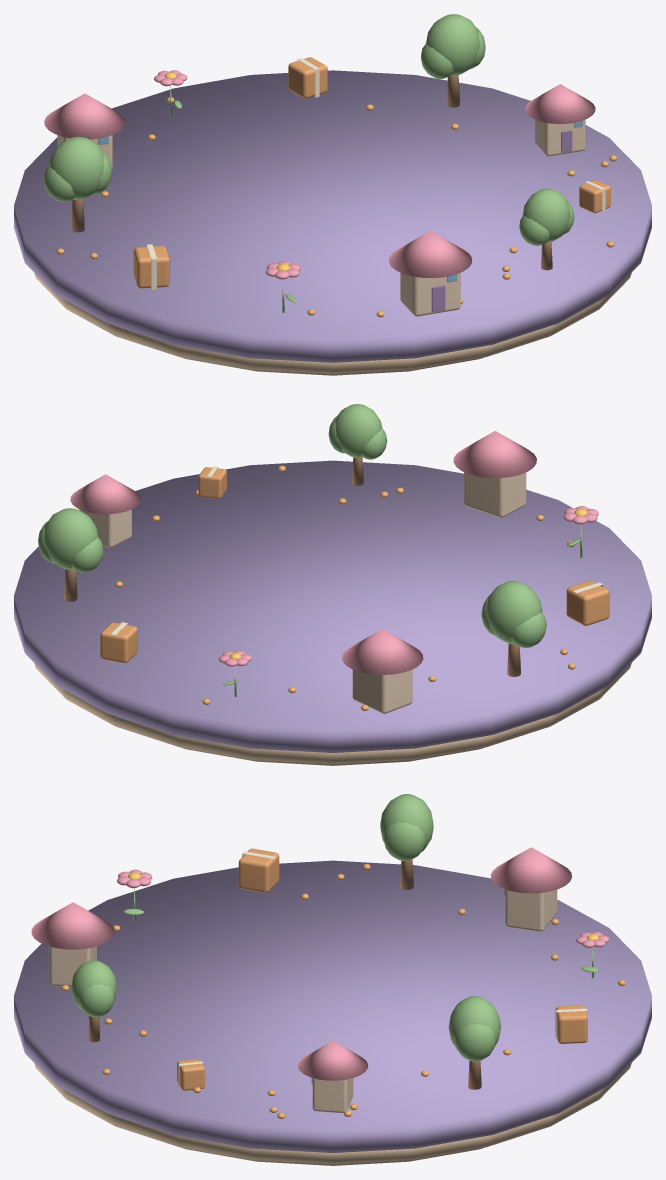
File: world.glb
The picture shows the model from 3 angles, top to bottom: view 1: azimuth 30°, elevation 25°; view 2: azimuth 150°, elevation 25°; view 3: azimuth 270°, elevation 25°; orthographic projection.
Parts seen in each view (by area): view 1: Cone, Cone.001, house.003, tree.002, tree.001, house.001, house.002, tree.003, parcel.002, parcel.001, parcel.003, flower.002 (+2 smaller); view 2: Cone, Cone.001, house.003, house.002, tree.002, tree.001, house.001, tree.003, parcel.002, parcel.001, parcel.003, flower.002 (+2 smaller); view 3: Cone, Cone.001, house.002, house.003, house.001, tree.002, tree.001, tree.003, parcel.002, parcel.001, parcel.003, flower.002 (+2 smaller).
Part boxes in pixels (<box>): Cone: <box>14,70,651,362</box>; Cone.001: <box>34,272,631,374</box>; house.003: <box>389,231,472,316</box>; tree.002: <box>43,136,112,232</box>; tree.001: <box>421,14,485,107</box>; house.001: <box>525,84,595,156</box>; house.002: <box>44,93,125,169</box>; tree.003: <box>519,188,574,270</box>; parcel.002: <box>133,244,169,289</box>; parcel.001: <box>288,57,327,98</box>; parcel.003: <box>579,180,610,213</box>; flower.002: <box>265,261,300,312</box>; Cone: <box>14,460,651,752</box>; Cone.001: <box>34,663,631,764</box>; house.003: <box>453,431,536,517</box>; house.002: <box>342,628,423,713</box>; tree.002: <box>481,581,546,676</box>; tree.001: <box>38,508,103,601</box>; house.001: <box>70,474,140,547</box>; tree.003: <box>328,404,387,485</box>; parcel.002: <box>566,580,609,625</box>; parcel.001: <box>100,622,137,663</box>; parcel.003: <box>198,466,226,498</box>; flower.002: <box>563,506,598,557</box>; Cone: <box>14,860,651,1152</box>; Cone.001: <box>34,1063,631,1164</box>; house.002: <box>490,847,571,931</box>; house.003: <box>31,902,114,987</box>; house.001: <box>297,1041,368,1113</box>; tree.002: <box>380,794,433,889</box>; tree.001: <box>448,996,501,1089</box>; tree.003: <box>71,960,116,1042</box>; parcel.002: <box>238,848,279,892</box>; parcel.001: <box>555,1005,587,1043</box>; parcel.003: <box>177,1059,204,1090</box>; flower.002: <box>117,869,152,921</box>.
Size of the model in its own units: 9.6 by 2.3 by 9.6.
